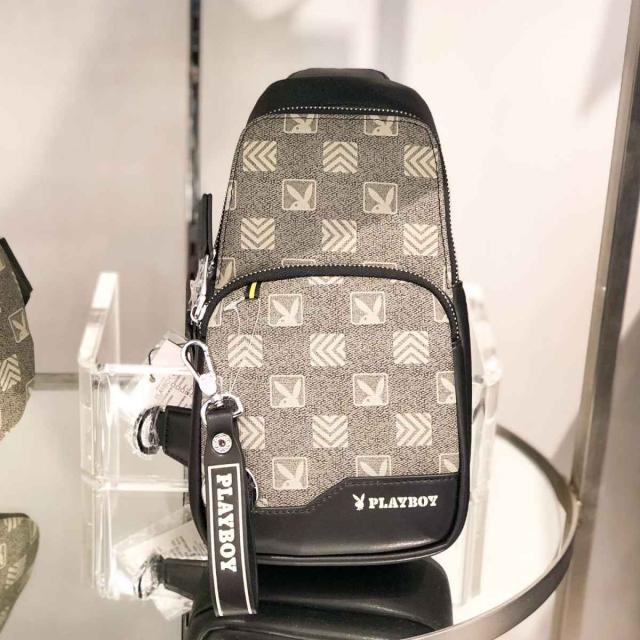handbag: (164, 65, 472, 573)
